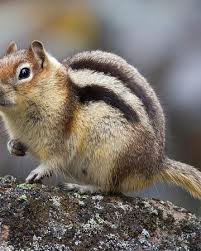Ardilla: (1, 37, 169, 191)
